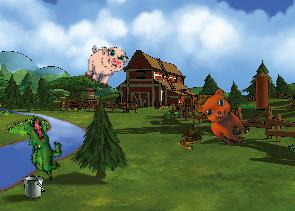bear: (190, 83, 260, 151)
crocodile: (9, 114, 75, 182)
pig: (79, 38, 131, 92)
